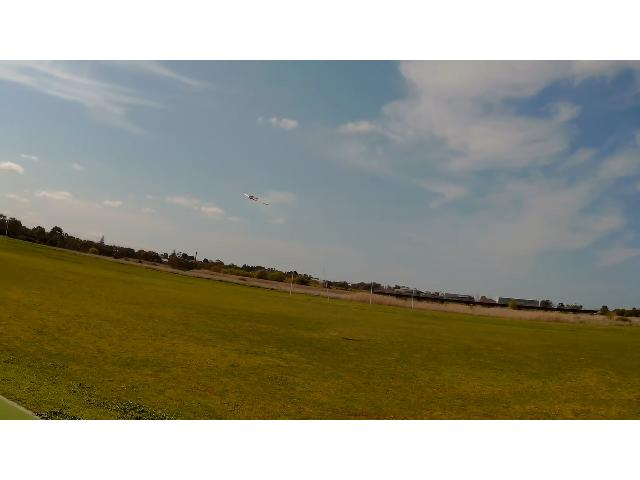Anti-Drone: (244, 194, 270, 206)
